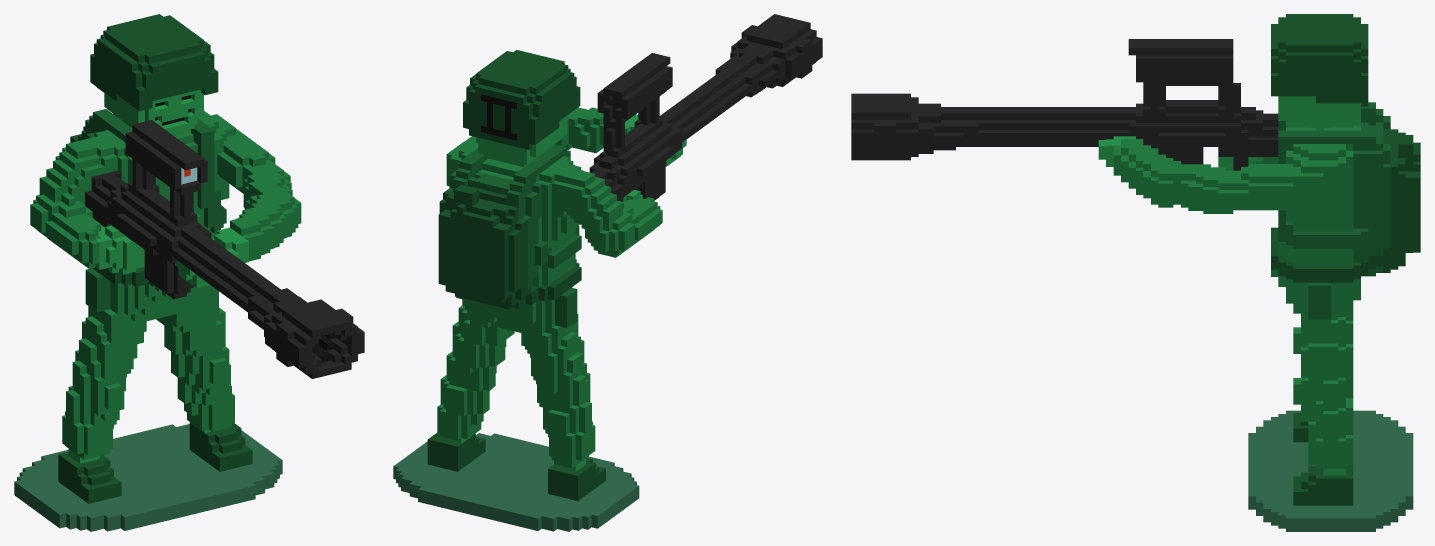
The model's file is snajper_soldier_LVL2_2.0.obj.
3 renders of one model, left to right at view 1: azimuth 30°, elevation 25°; view 2: azimuth 150°, elevation 25°; view 3: azimuth 270°, elevation 25°, orthographic. The views are drawn at different scales.
Size of the model in its own units: 3.5 by 6.6 by 7.6.
1 material, 1 textured.
